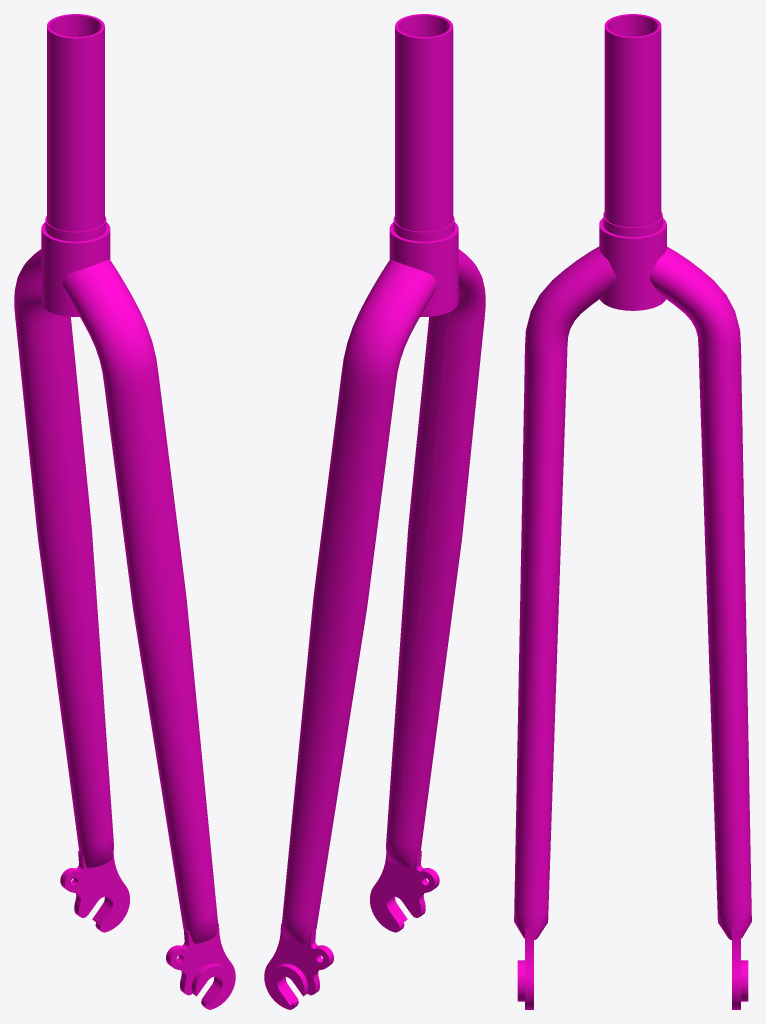
Rendered from Mango_OG_Fork.glb.
The picture shows the model from 3 angles, left to right: view 1: azimuth 30°, elevation 25°; view 2: azimuth 150°, elevation 25°; view 3: azimuth 270°, elevation 25°; orthographic projection. The views are drawn at different scales.
Visible parts, largest first — view 1: no_transformations (×2); view 2: no_transformations (×2); view 3: no_transformations (×2).
Boxes of the visible parts, x1,y1,x2,y2 form: no_transformations (×2): (14, 14, 235, 1009); no_transformations (×2): (264, 14, 485, 1009); no_transformations (×2): (514, 14, 751, 1009).
Bounding box in the file's own units: 76.59 × 523 × 120.
